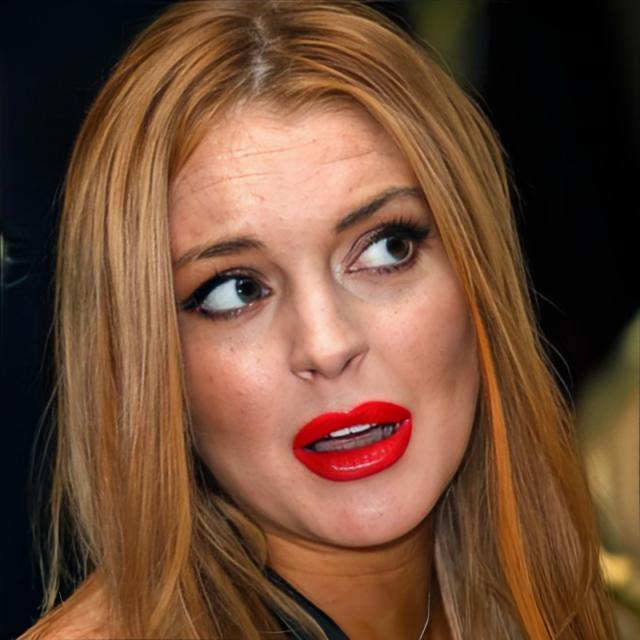surprise: (166, 80, 481, 545)
